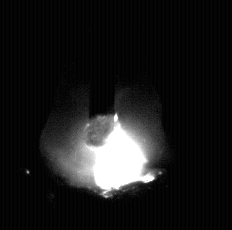arame: (90, 0, 115, 119)
poca: (40, 0, 167, 230)
